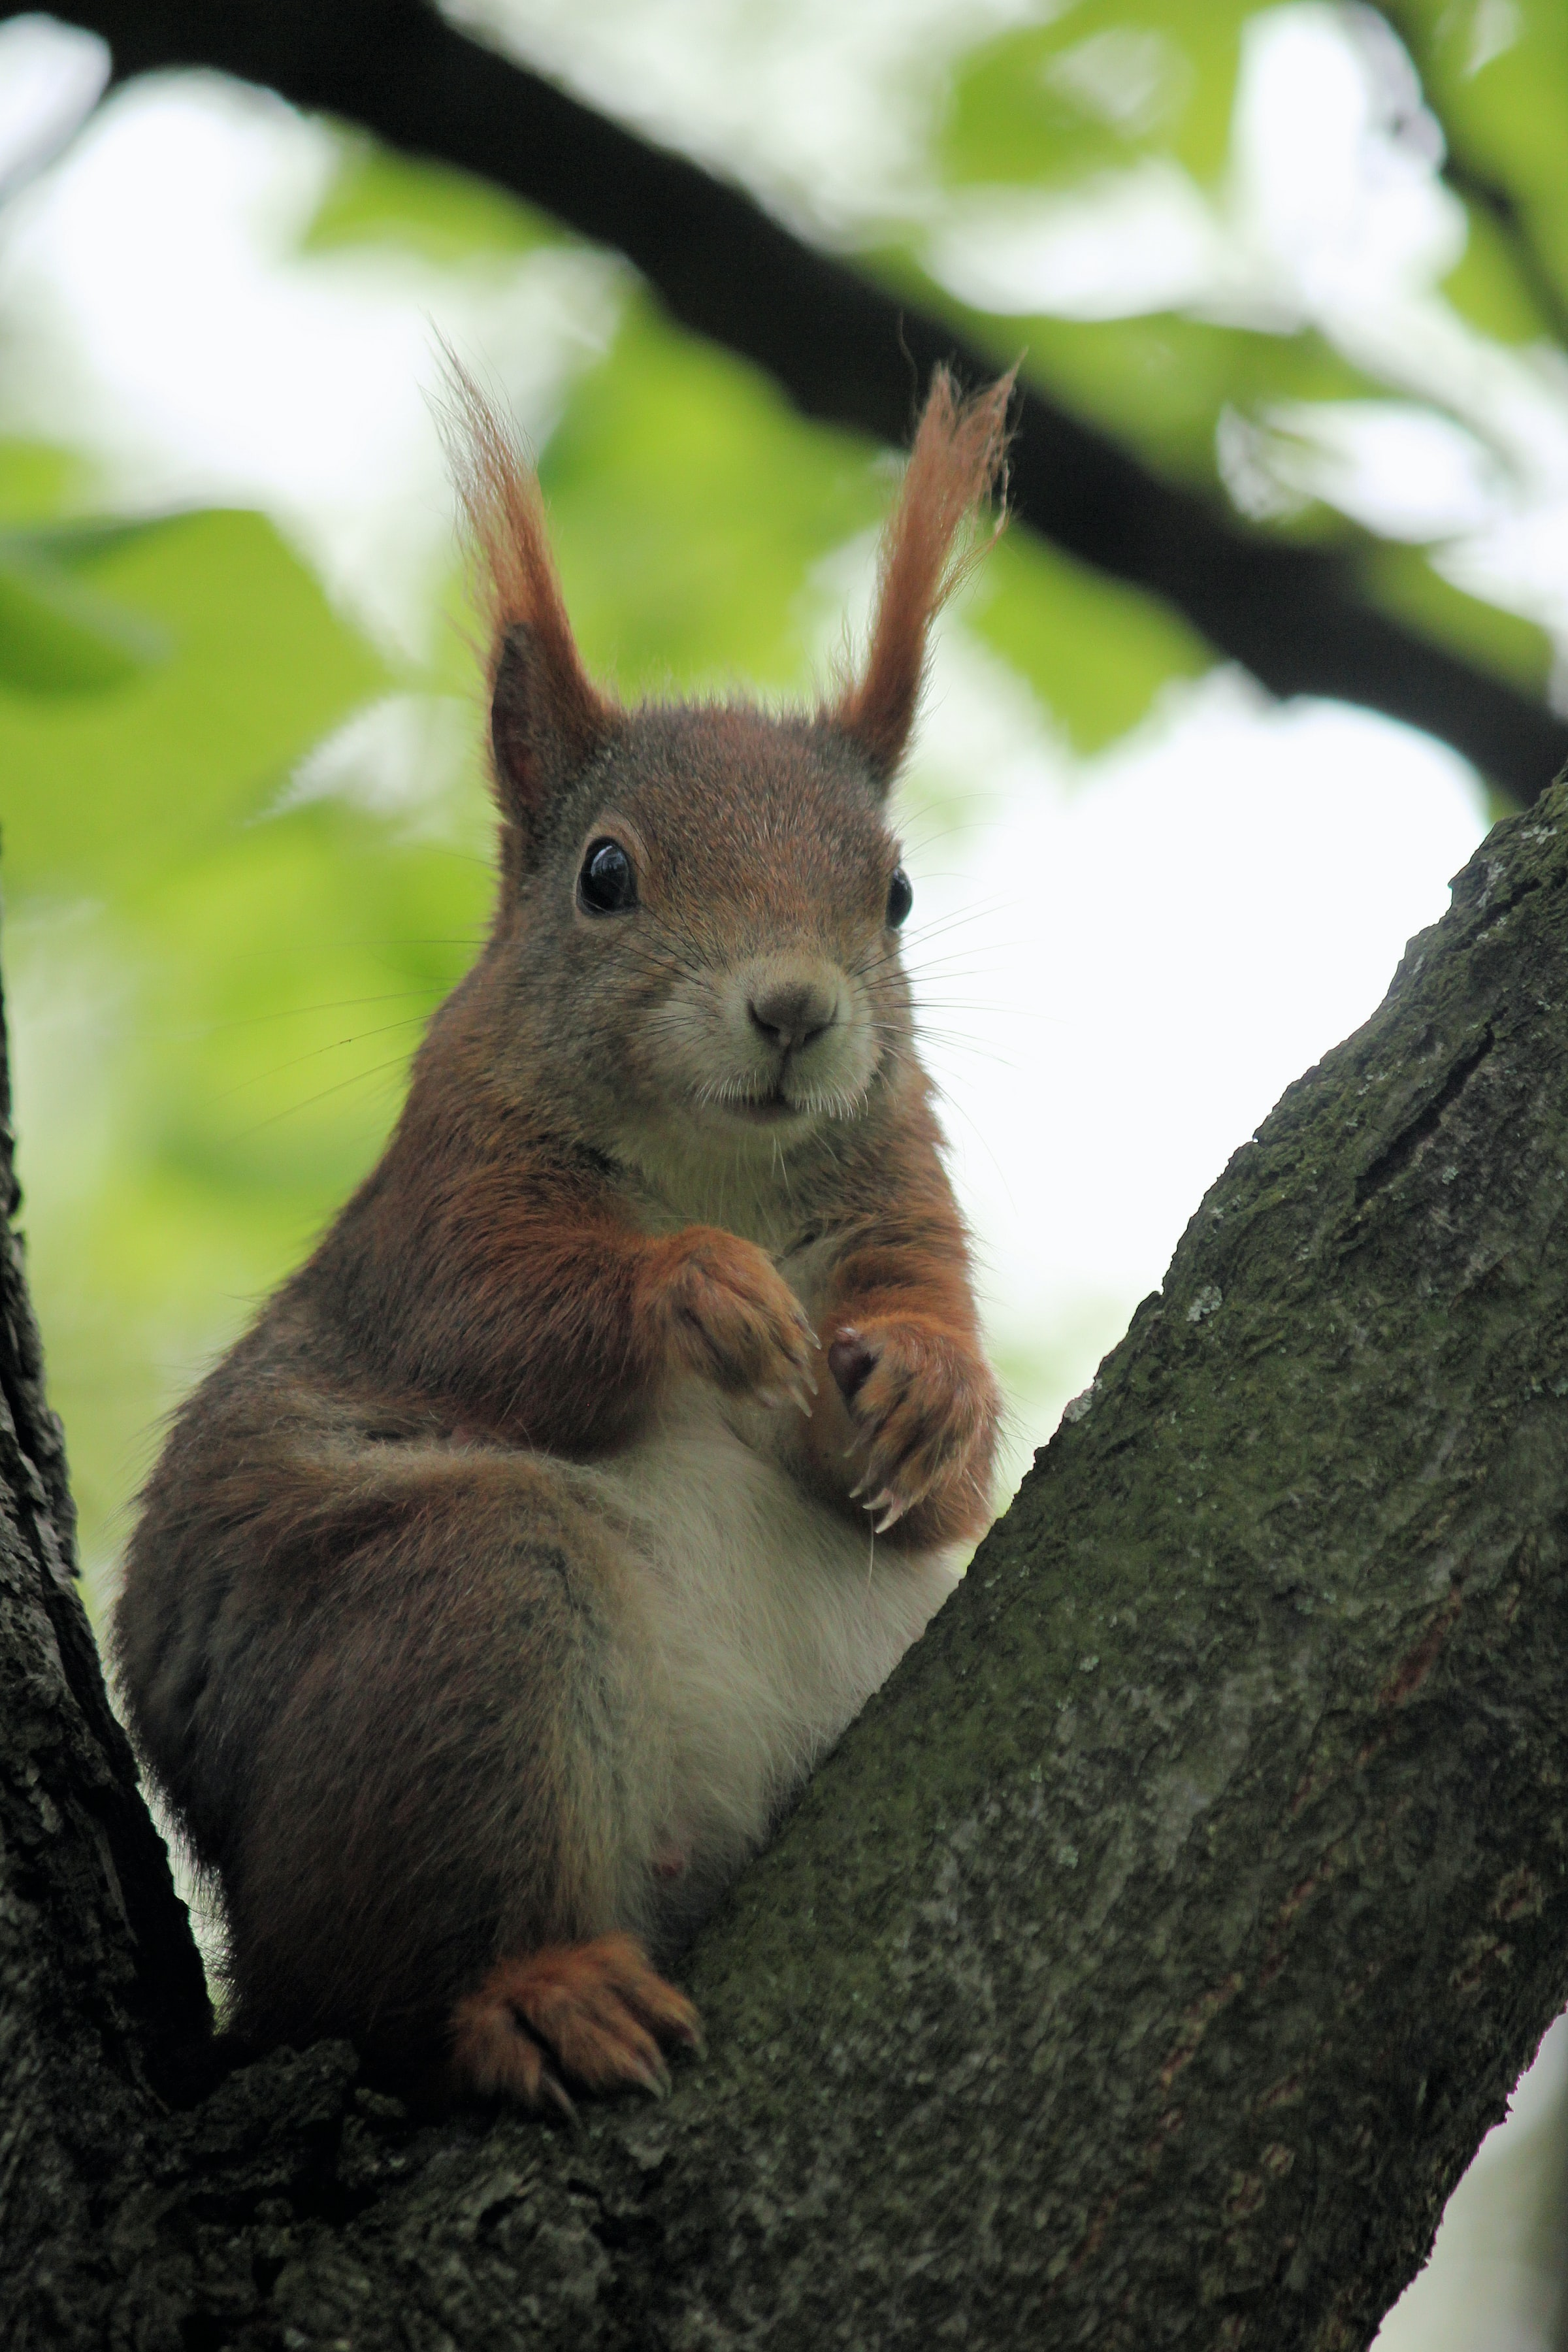squirrel: (114, 427, 1029, 2117)
